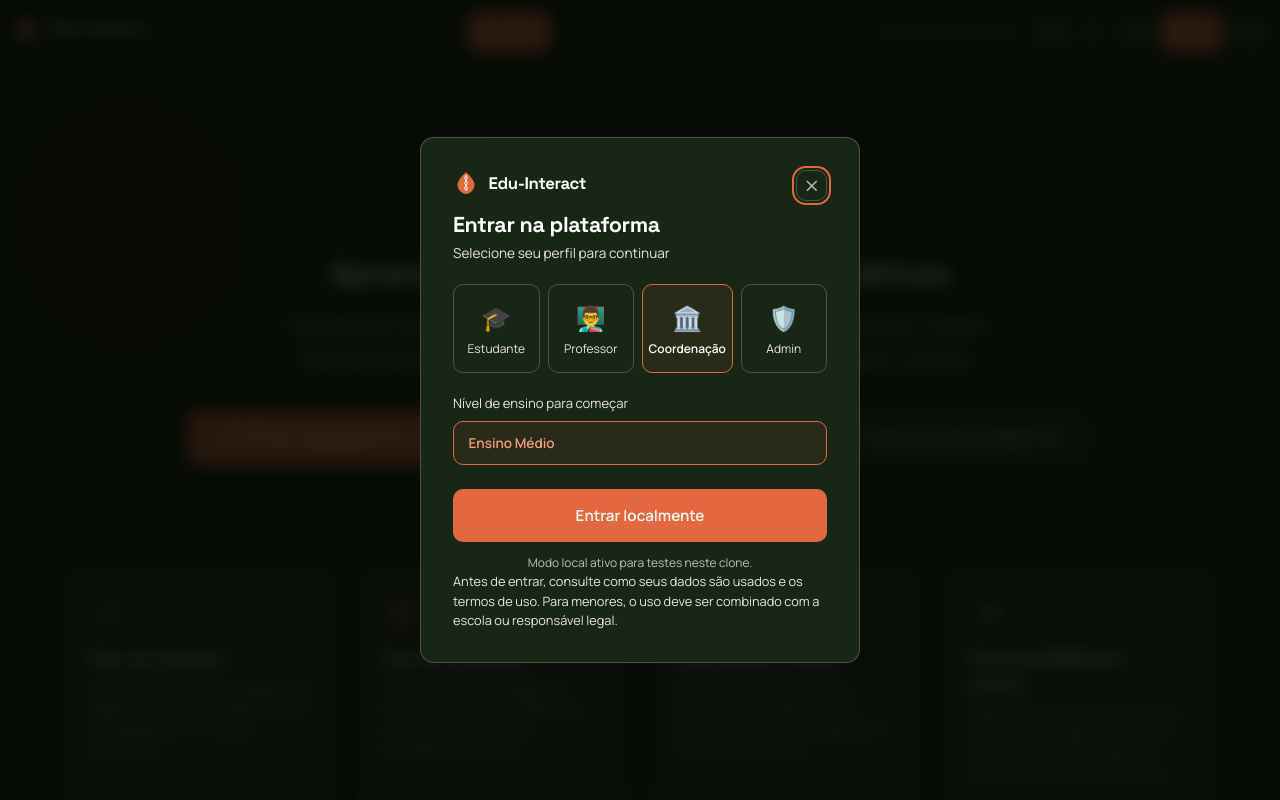
it: login continuity › falls back to the profile panel when a requested page is not allowed
Expected: the dialog is shown, [420,137,860,663]
Step 1. Click the button "🎓 estudante" → (496, 328), box [453,284,540,373]
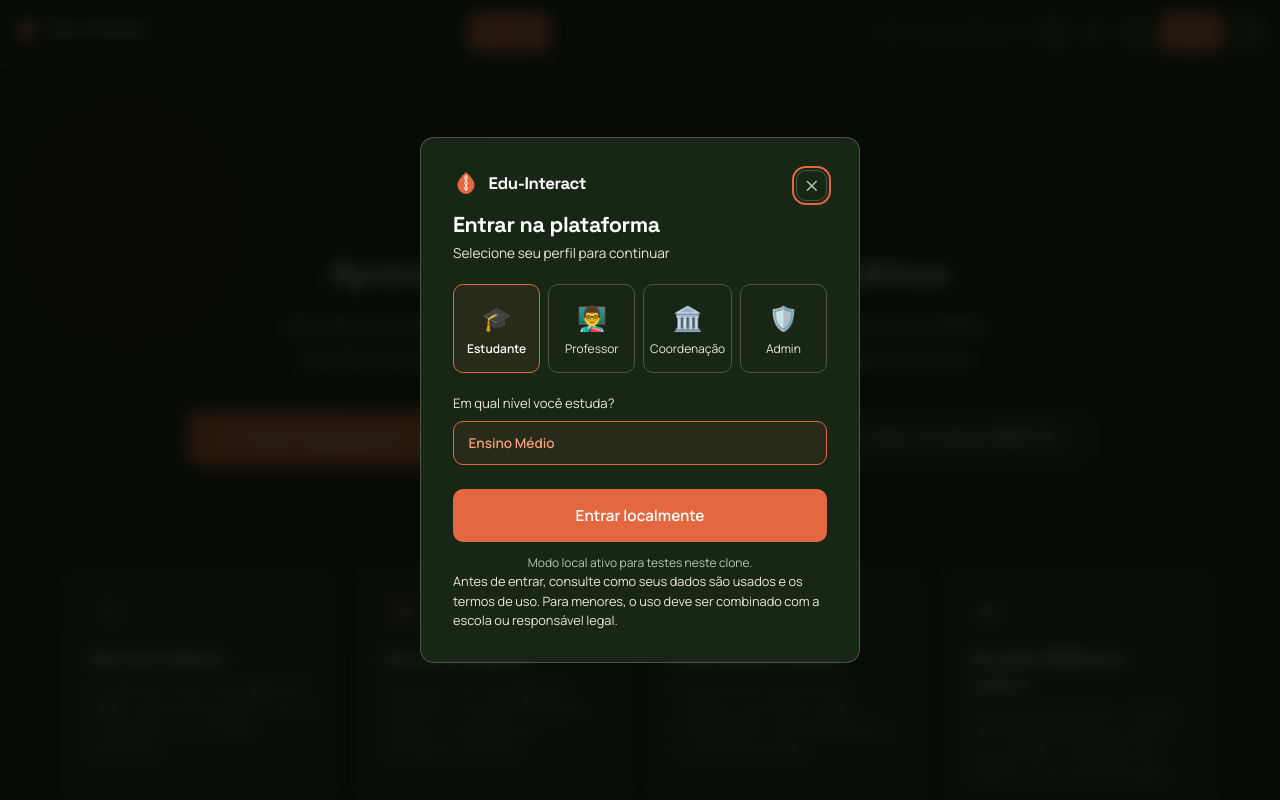
Step 2. Click the button "Entrar localmente" → (640, 516), box [453,489,827,542]
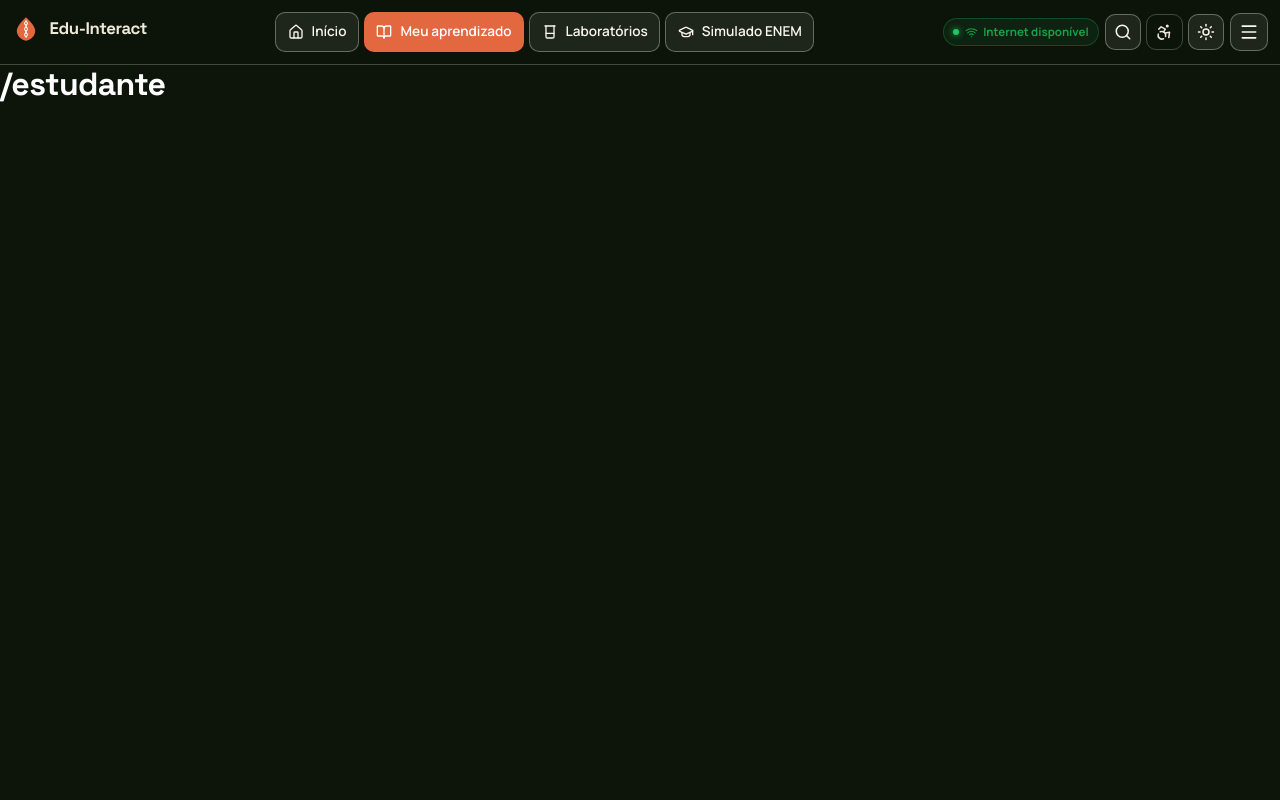
Now the heading "/estudante" is shown, box [0,64,166,104]
